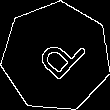P_SW: (26, 26, 86, 88)
